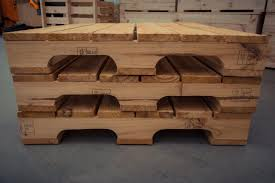pallet: (3, 23, 265, 153)
